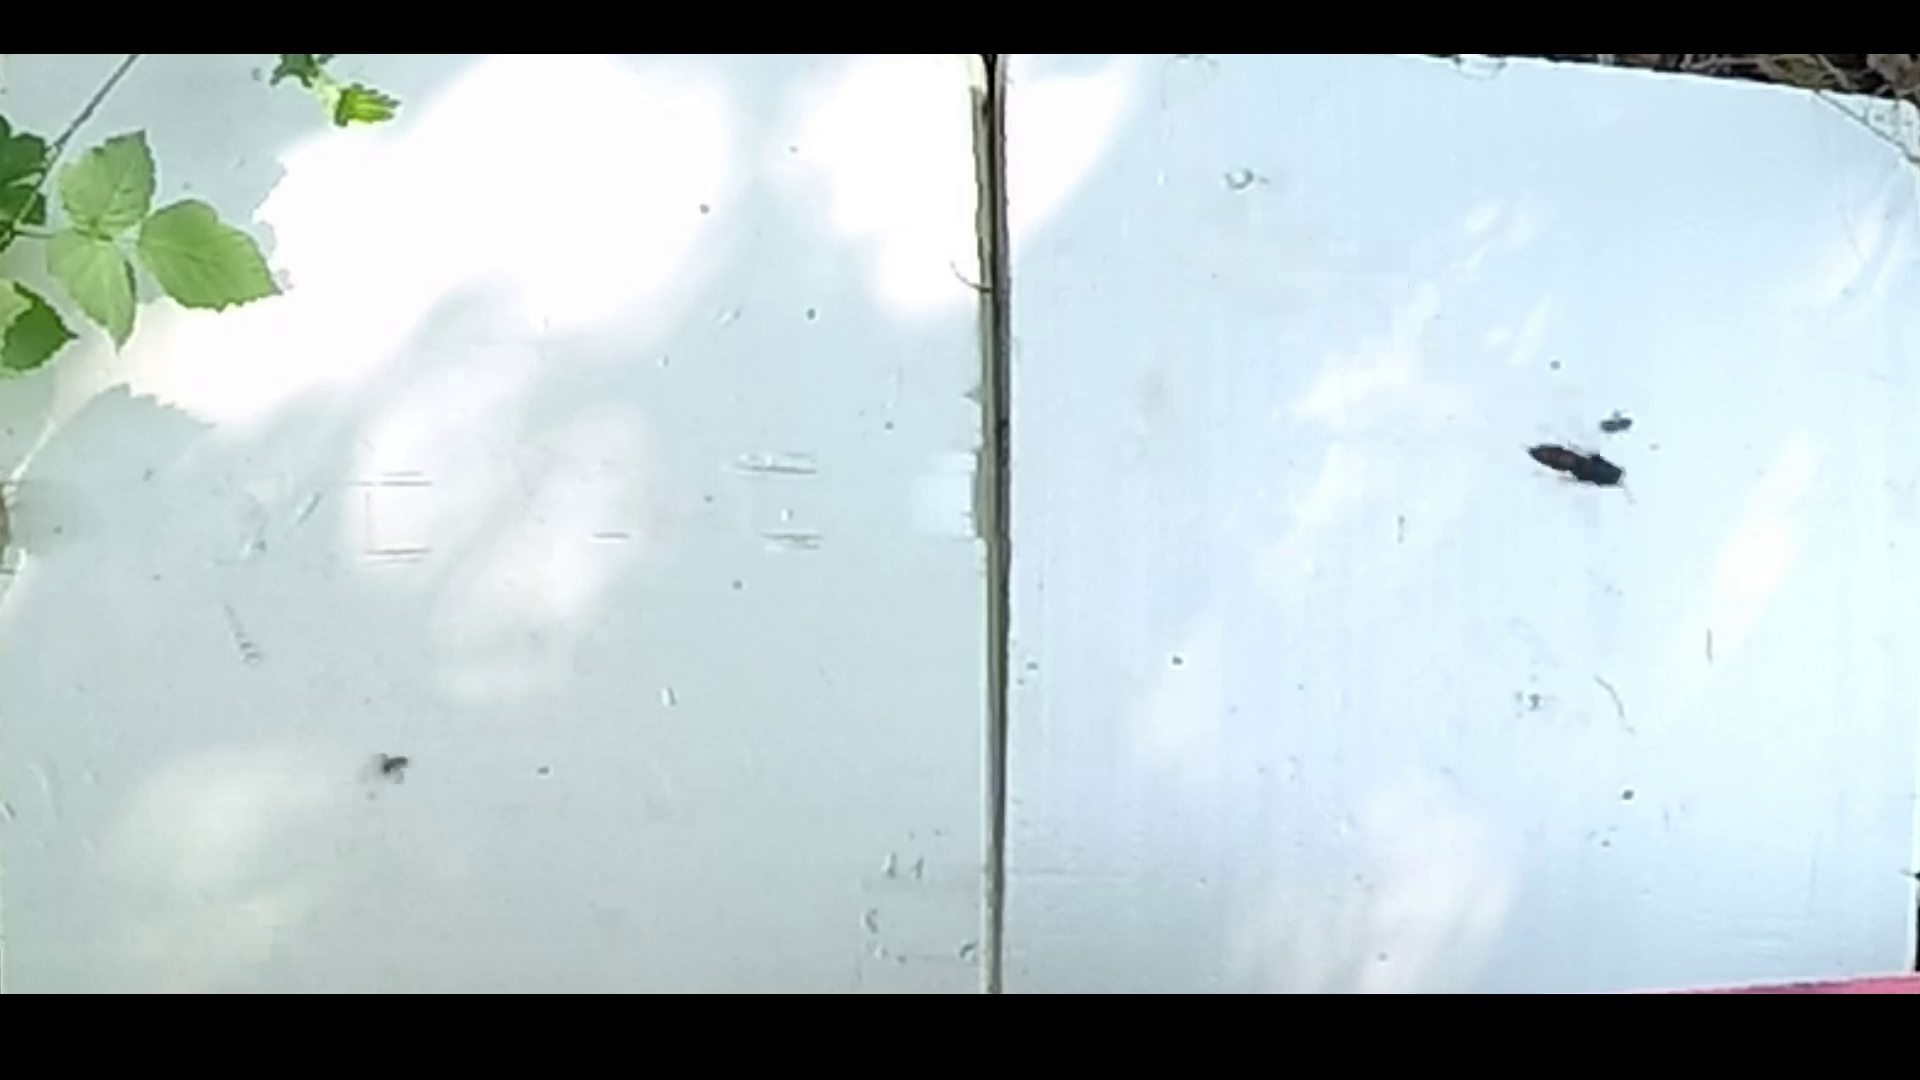Asian_hornets: (1506, 417, 1640, 509)
